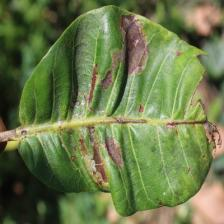leaf miner: (60, 38, 122, 121), (71, 120, 130, 189), (115, 15, 153, 83)
